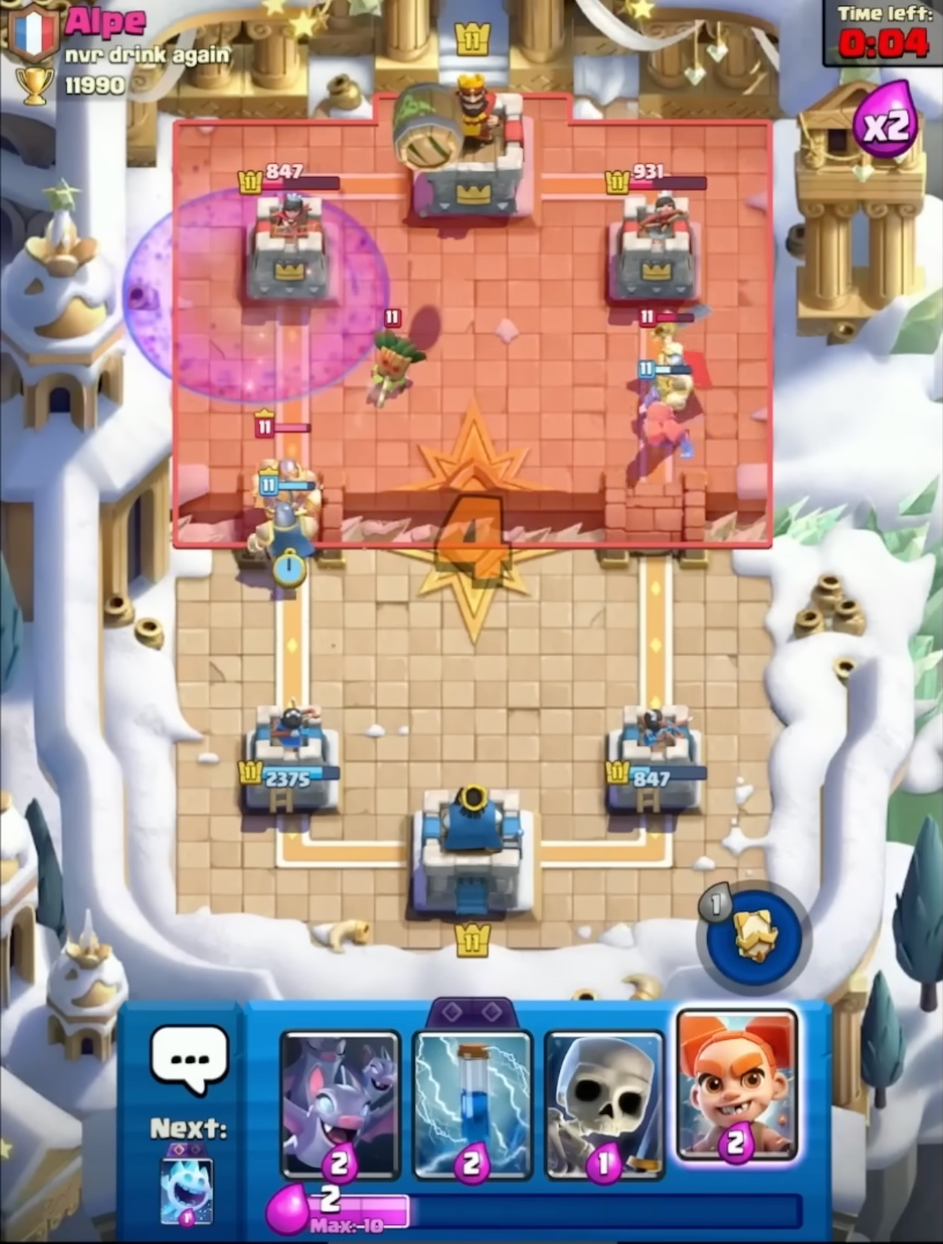dart-goblin: (365, 306, 428, 409)
hero-knight: (618, 292, 712, 417), (240, 413, 329, 520)
